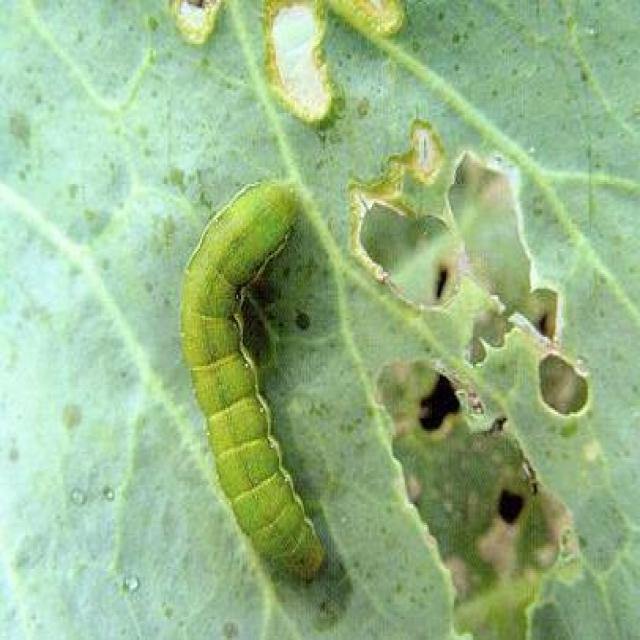BeetArmyWorm-Larva-: (171, 162, 343, 592)
